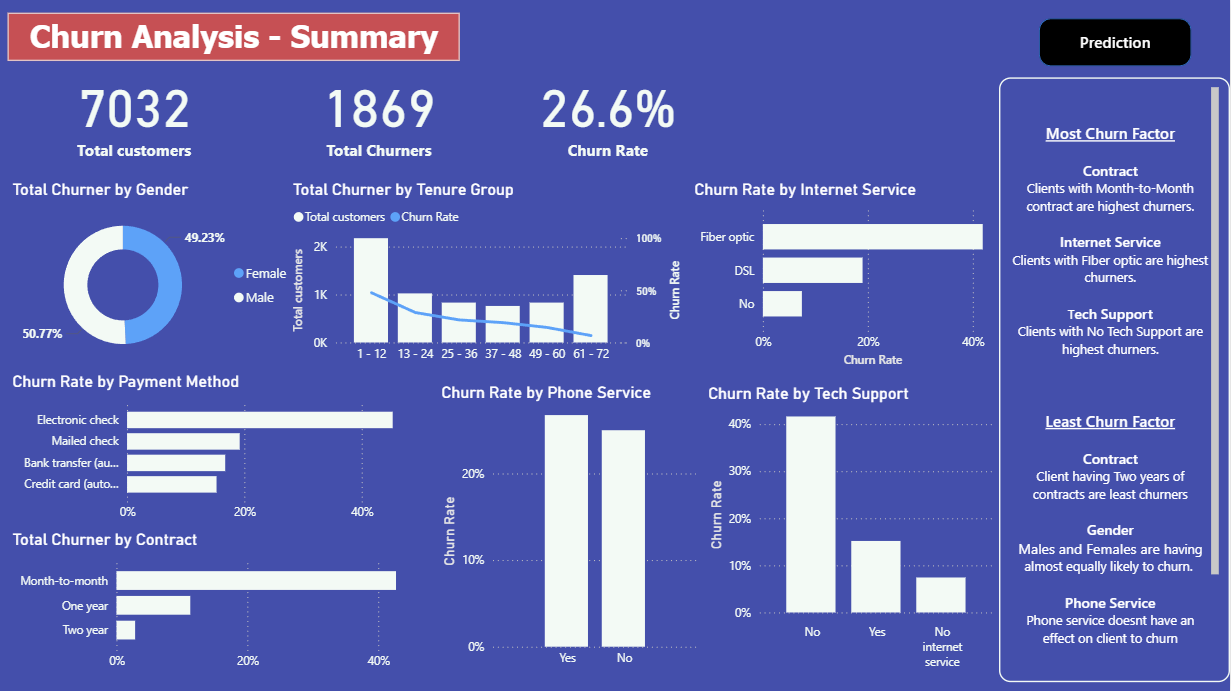

What the dashboard file says about the page in this screenshot:
{"tool":"powerbi","page":{"name":"Churn Summary","canvas":[1280,720],"ordinal":0},"visuals":[{"type":"donutChart","title":"Total Churner by Gender","fields":{"Y":["Predictions.Female_sum","Predictions.Male_sum"]},"box":[10,187.1,304.3,200],"z":0},{"type":"lineClusteredColumnComboChart","title":"Total Churner by Tenure Group","fields":{"Category":["Data_clean.tenure_group"],"Y":["Data_clean.Total customers"],"Y2":["Data_clean.Churn Rate"]},"box":[301.4,187.1,417.1,200],"z":1000},{"type":"card","fields":{"Values":["Data_clean.Total customers"]},"box":[10,64.3,262.9,112.9],"z":2000},{"type":"card","fields":{"Values":["Data_clean.Total Churners"]},"box":[272.9,64.3,245.7,112.9],"z":3000},{"type":"card","fields":{"Values":["Data_clean.Churn Rate"]},"box":[518.6,64.3,230,112.9],"z":4000},{"type":"clusteredBarChart","title":"Churn Rate by Internet Service","fields":{"Category":["Data_clean.InternetService"],"Y":["Data_clean.Churn Rate"]},"box":[718.6,187.1,321.4,200],"z":5000},{"type":"lineStackedColumnComboChart","title":"Churn Rate by Tech Support","fields":{"Category":["Data_clean.TechSupport"],"Y":["Data_clean.Churn Rate"]},"box":[732.9,400,307.1,304.3],"z":6000},{"type":"clusteredBarChart","title":"Churn Rate by Payment Method","fields":{"Category":["Data_clean.PaymentMethod"],"Y":["Data_clean.Churn Rate"]},"box":[10,387.1,445.7,164.3],"z":7000},{"type":"clusteredBarChart","title":"Total Churner by Contract","fields":{"Category":["Data_clean.Contract"],"Y":["Data_clean.Churn Rate"]},"box":[10,551.4,470,154.3],"z":8000},{"type":"textbox","box":[10,14.3,470,50],"z":9000},{"type":"textbox","box":[1040,81.4,240,628.6],"z":11000},{"type":"lineStackedColumnComboChart","title":"Churn Rate by Phone Service","fields":{"Category":["Data_clean.PhoneService"],"Y":["Data_clean.Churn Rate"]},"box":[455.7,398.6,277.1,304.3],"z":12000},{"type":"shape","box":[1081.4,20,158.6,50],"z":12001}]}

Visuals, with their boxes in screenshot pixels (x1, y1, x2, y2), scaled from the page's 1280x720 canvas onto the 1231x691 screenshot:
"Total Churner by Gender" donutChart: 10 180 302 372
"Total Churner by Tenure Group" lineClusteredColumnComboChart: 290 180 691 372
card - Data_clean.Total customers: 10 62 262 170
card - Data_clean.Total Churners: 262 62 499 170
card - Data_clean.Churn Rate: 499 62 720 170
"Churn Rate by Internet Service" clusteredBarChart: 691 180 1000 372
"Churn Rate by Tech Support" lineStackedColumnComboChart: 705 384 1000 676
"Churn Rate by Payment Method" clusteredBarChart: 10 372 438 529
"Total Churner by Contract" clusteredBarChart: 10 529 462 677
textbox: 10 14 462 62
textbox: 1000 78 1230 681
"Churn Rate by Phone Service" lineStackedColumnComboChart: 438 383 705 675
shape: 1040 19 1193 67
